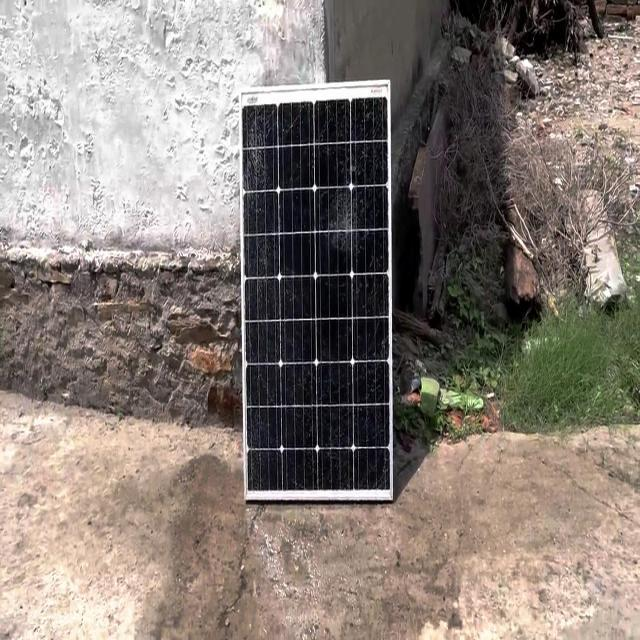faulty: (240, 96, 394, 500)
